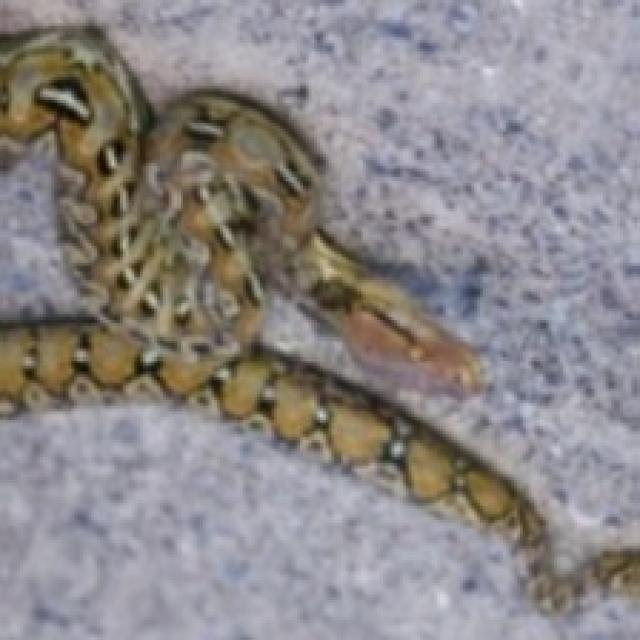reticulated python: (0, 29, 637, 609)
